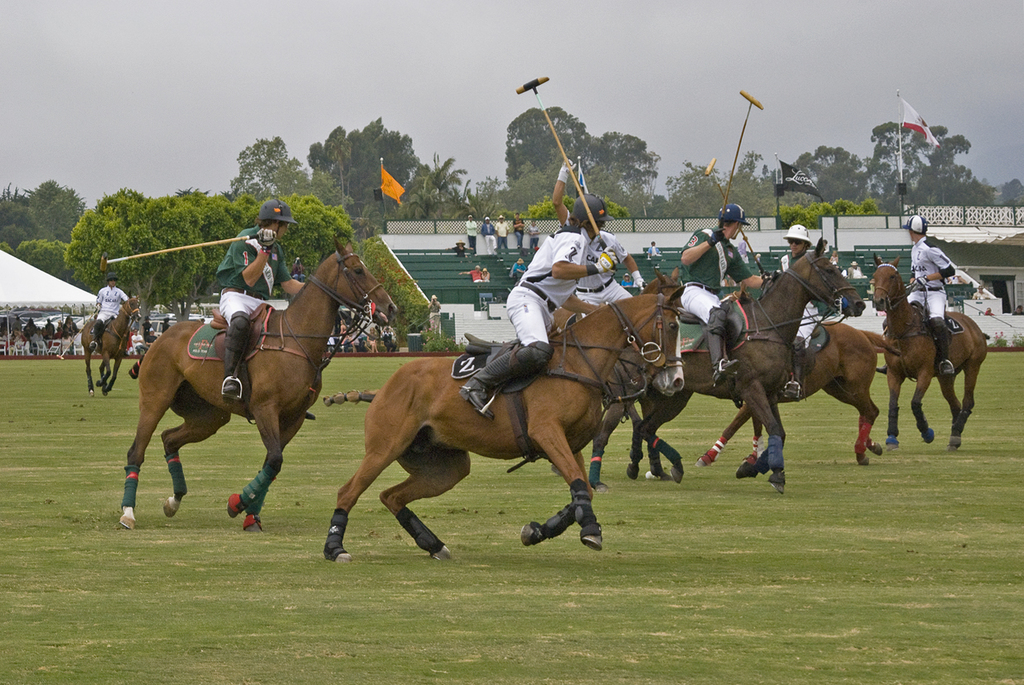Person: (460, 194, 618, 419), (678, 203, 781, 385), (214, 198, 304, 401), (549, 158, 645, 316), (875, 214, 956, 374), (768, 223, 821, 396), (93, 277, 127, 353)
